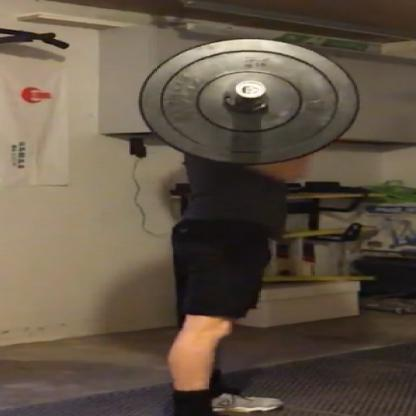barbell: (139, 40, 359, 164)
